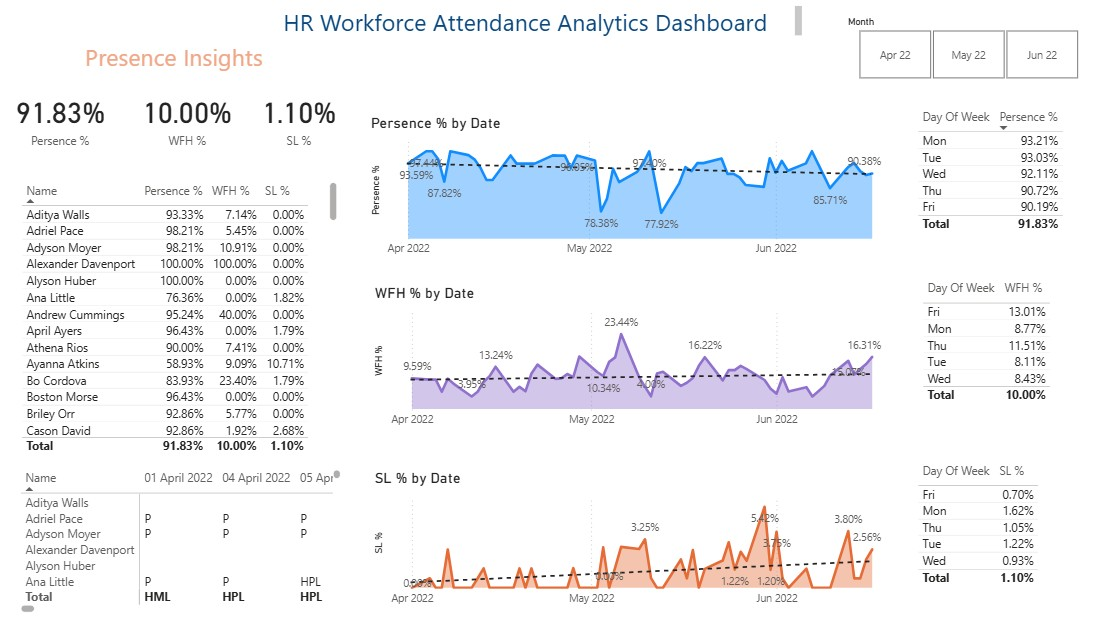

This screenshot's page, from the dashboard's own definition file:
{"tool":"powerbi","page":{"name":"Page 1","canvas":[1280,720],"ordinal":0},"visuals":[{"type":"card","fields":{"Values":["Measure.Persence %"]},"box":[0,80,140,115.7],"z":2000},{"type":"slicer","fields":{"Values":["Final Data.Month"]},"box":[957.1,15.7,300,82.9],"z":2001},{"type":"card","fields":{"Values":["Measure.WFH %"]},"box":[140,80,150,115.7],"z":2002},{"type":"card","fields":{"Values":["Measure.SL %"]},"box":[290,80,105.7,115.7],"z":2003},{"type":"tableEx","fields":{"Values":["Final Data.Name","Measure.Persence %","Measure.WFH %","Measure.SL %"]},"box":[20,205.7,371.4,320],"z":2004},{"type":"textbox","box":[40,44.3,320,54.3],"z":2005},{"type":"pivotTable","fields":{"Rows":["Final Data.Name"],"Values":["Min(Final Data.Value)"],"Columns":["Final Data.Date"]},"box":[20,534.3,375.7,172.9],"z":2006},{"type":"areaChart","fields":{"Category":["Final Data.Date"],"Y":["Measure.Persence %"]},"box":[420,132.9,607.1,171.4],"z":2007},{"type":"areaChart","fields":{"Category":["Final Data.Date"],"Y":["Measure.WFH %"]},"box":[424.3,327.1,602.9,172.9],"z":2008},{"type":"areaChart","fields":{"Category":["Final Data.Date"],"Y":["Measure.SL %"]},"box":[424.3,538.6,602.9,165.7],"z":2009},{"type":"tableEx","fields":{"Values":["Final Data.Day Of Week","Measure.Persence %"]},"box":[1044.3,121.4,212.9,182.9],"z":2010},{"type":"tableEx","fields":{"Values":["Final Data.Day Of Week","Measure.WFH %"]},"box":[1050,317.1,204.3,182.9],"z":2011},{"type":"tableEx","fields":{"Values":["Final Data.Day Of Week","Measure.SL %"]},"box":[1044.3,525.7,212.9,187.1],"z":2012},{"type":"textbox","box":[320,4.3,602.9,44.3],"z":2013}]}

Visuals, with their boxes in screenshot pixels (x1, y1, x2, y2), scaled from the page's 1280x720 canvas onto the 1117x622 screenshot:
card - Measure.Persence %: 0,69,122,169
slicer - Final Data.Month: 835,14,1097,85
card - Measure.WFH %: 122,69,253,169
card - Measure.SL %: 253,69,345,169
tableEx - Final Data.Name x Measure.Persence %: 17,178,342,454
textbox: 35,38,314,85
pivotTable - Final Data.Name x Min(Final Data.Value): 17,462,345,611
areaChart - Final Data.Date x Measure.Persence %: 367,115,896,263
areaChart - Final Data.Date x Measure.WFH %: 370,283,896,432
areaChart - Final Data.Date x Measure.SL %: 370,465,896,608
tableEx - Final Data.Day Of Week x Measure.Persence %: 911,105,1097,263
tableEx - Final Data.Day Of Week x Measure.WFH %: 916,274,1095,432
tableEx - Final Data.Day Of Week x Measure.SL %: 911,454,1097,616
textbox: 279,4,805,42
